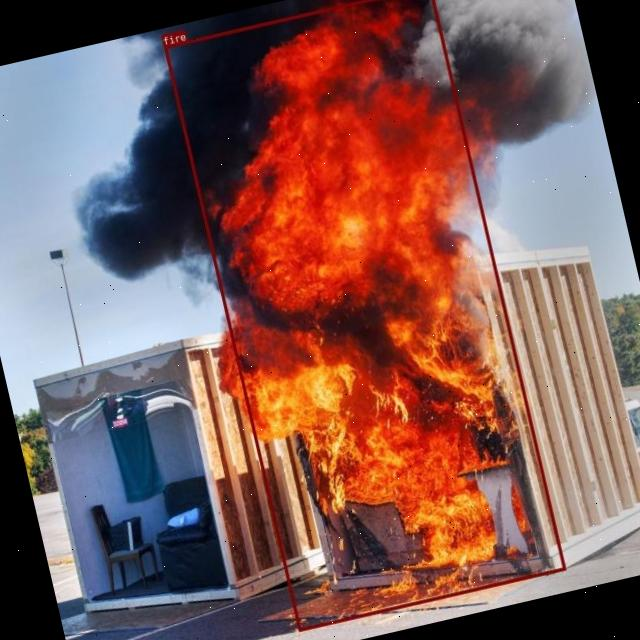fire: (163, 0, 565, 630)
